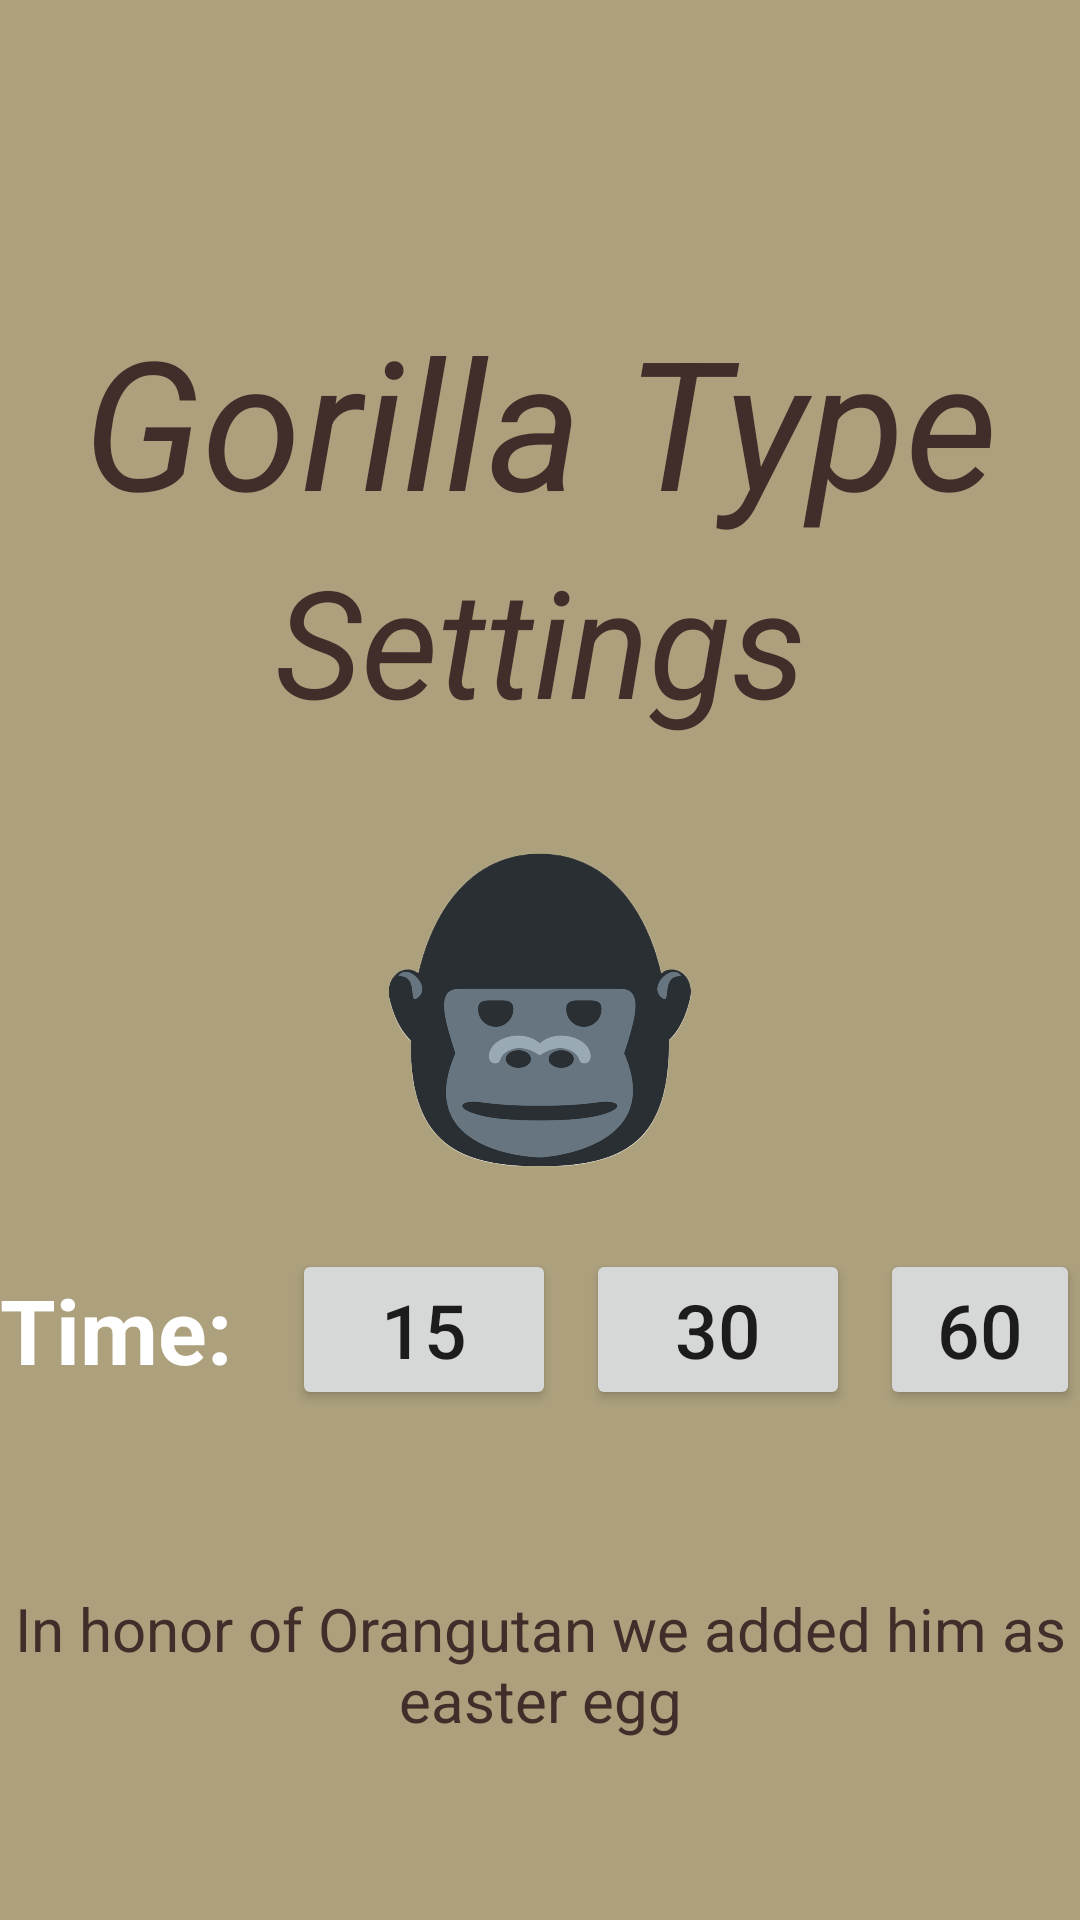

Screen size 1080px x 1920px. Icon name, then its center in pixels as (x,y):
gorila: (540,1010)
